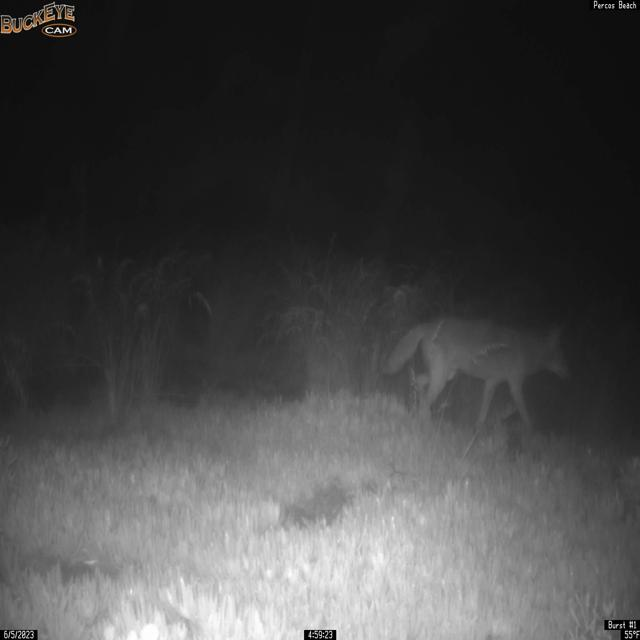coyote: (380, 314, 573, 438)
